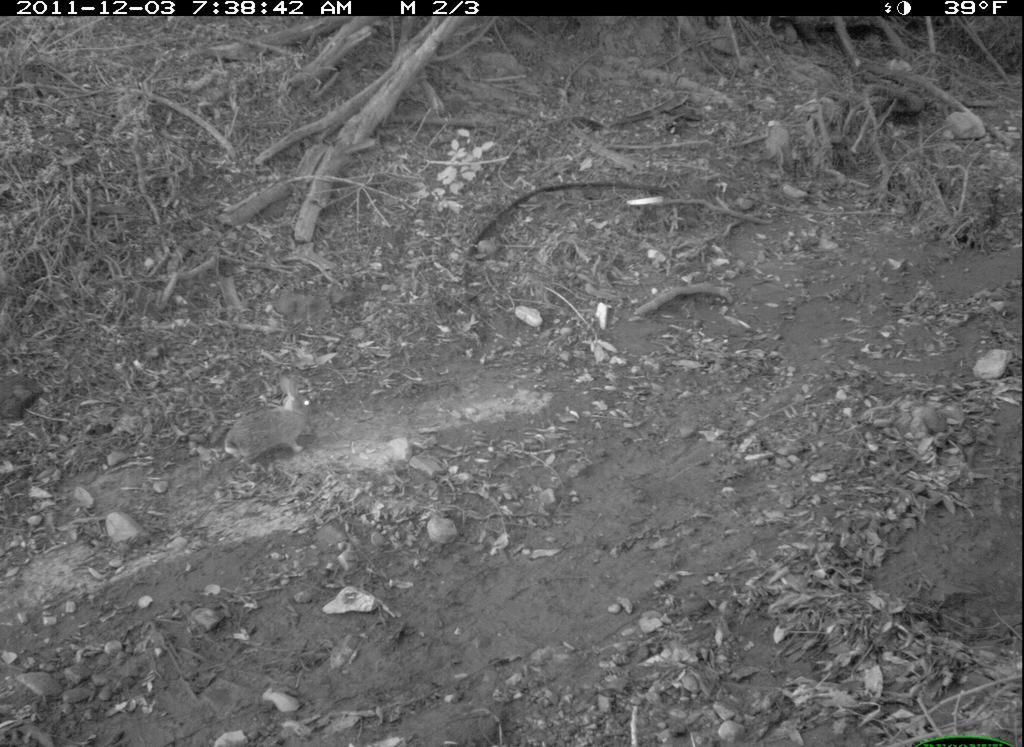rabbit: (221, 369, 321, 469)
